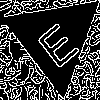E: (29, 14, 81, 70)
